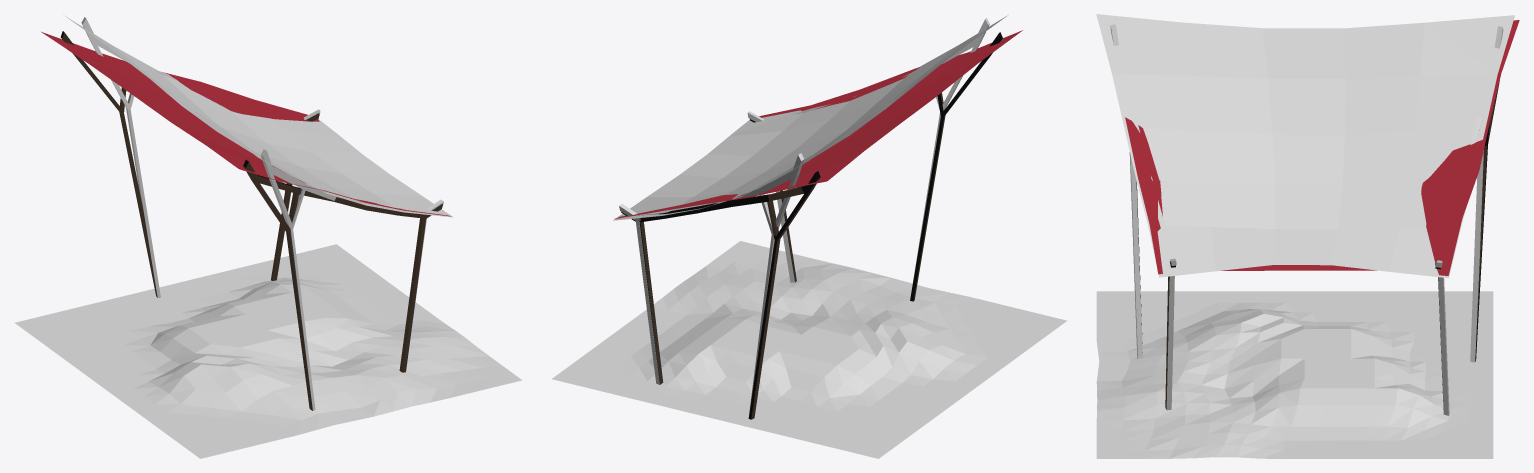
The model's file is desert_stall-transformed.glb.
3 views of the same model, side by side, from view 1: azimuth 30°, elevation 25°; view 2: azimuth 150°, elevation 25°; view 3: azimuth 270°, elevation 25° (orthographic). The views are drawn at different scales.
Parts seen in each view (by area): view 1: M, Mesh, Plane, Cube; view 2: M, Plane, Mesh, Cube; view 3: Plane, M, Mesh, Cube.
Part boxes in pixels (left/top/right/bottom): M: left=14, top=244, right=521, bottom=458; Mesh: left=41, top=31, right=451, bottom=410; Plane: left=64, top=15, right=453, bottom=217; Cube: left=81, top=17, right=443, bottom=410; M: left=551, top=241, right=1066, bottom=458; Plane: left=613, top=15, right=1007, bottom=220; Mesh: left=615, top=30, right=1022, bottom=419; Cube: left=619, top=18, right=989, bottom=417; Plane: left=1096, top=14, right=1514, bottom=278; M: left=1096, top=291, right=1493, bottom=458; Mesh: left=1125, top=20, right=1519, bottom=409; Cube: left=1110, top=24, right=1503, bottom=415.
Size of the model in its own units: 10 by 8.75 by 10.68.
Materials: 1 (1 with a texture image).
